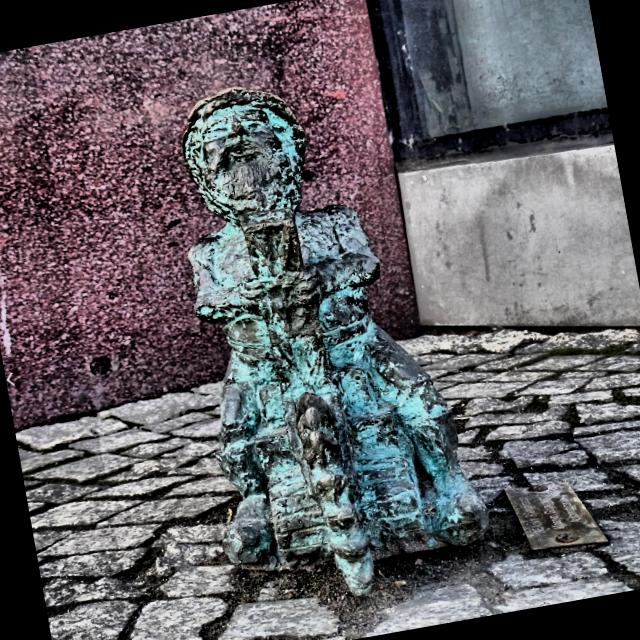Automatek: (182, 88, 488, 594)
